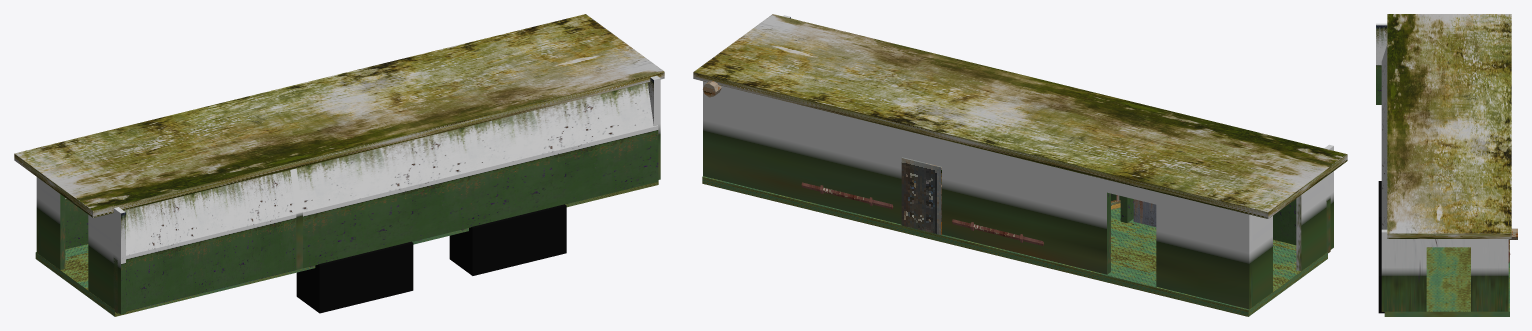
File: corridor_fix.fbx
3 views of the same model, side by side, from view 1: azimuth 30°, elevation 25°; view 2: azimuth 150°, elevation 25°; view 3: azimuth 270°, elevation 25° (orthographic). The views are drawn at different scales.
Visible parts, largest first — view 1: wall_exterior, ceiling, wall_interior, Cube.008, Cube.009, floor; view 2: wall_interior, ceiling, floor, screen, wall_exterior, desk, reservoir, reservoir.001; view 3: ceiling, wall_interior, floor, wall_exterior, Cube.009, Cube.008.
Part boxes in pixels (bbox=[...]): wall_exterior: bbox=[108, 83, 658, 313]; ceiling: bbox=[14, 14, 664, 217]; wall_interior: bbox=[36, 75, 660, 314]; Cube.008: bbox=[296, 241, 413, 313]; Cube.009: bbox=[449, 204, 566, 275]; floor: bbox=[35, 180, 658, 316]; wall_interior: bbox=[703, 15, 1333, 309]; ceiling: bbox=[693, 14, 1347, 218]; floor: bbox=[702, 176, 1327, 316]; screen: bbox=[901, 157, 941, 234]; wall_exterior: bbox=[1111, 176, 1330, 253]; desk: bbox=[1133, 199, 1156, 226]; reservoir: bbox=[952, 219, 1043, 245]; reservoir.001: bbox=[801, 182, 893, 209]; ceiling: bbox=[1387, 14, 1511, 238]; wall_interior: bbox=[1376, 23, 1508, 311]; floor: bbox=[1384, 240, 1509, 316]; wall_exterior: bbox=[1381, 45, 1387, 311]; Cube.009: bbox=[1378, 240, 1384, 313]; Cube.008: bbox=[1378, 181, 1381, 239].
Bounding box in the file's own units: 1757 × 449 × 480.
Materials: 20 (18 with a texture image).
